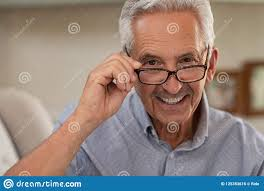Glasses: (128, 61, 212, 89)
